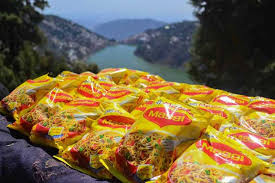maggie: (116, 102, 195, 179), (43, 87, 103, 160), (181, 132, 249, 183)
